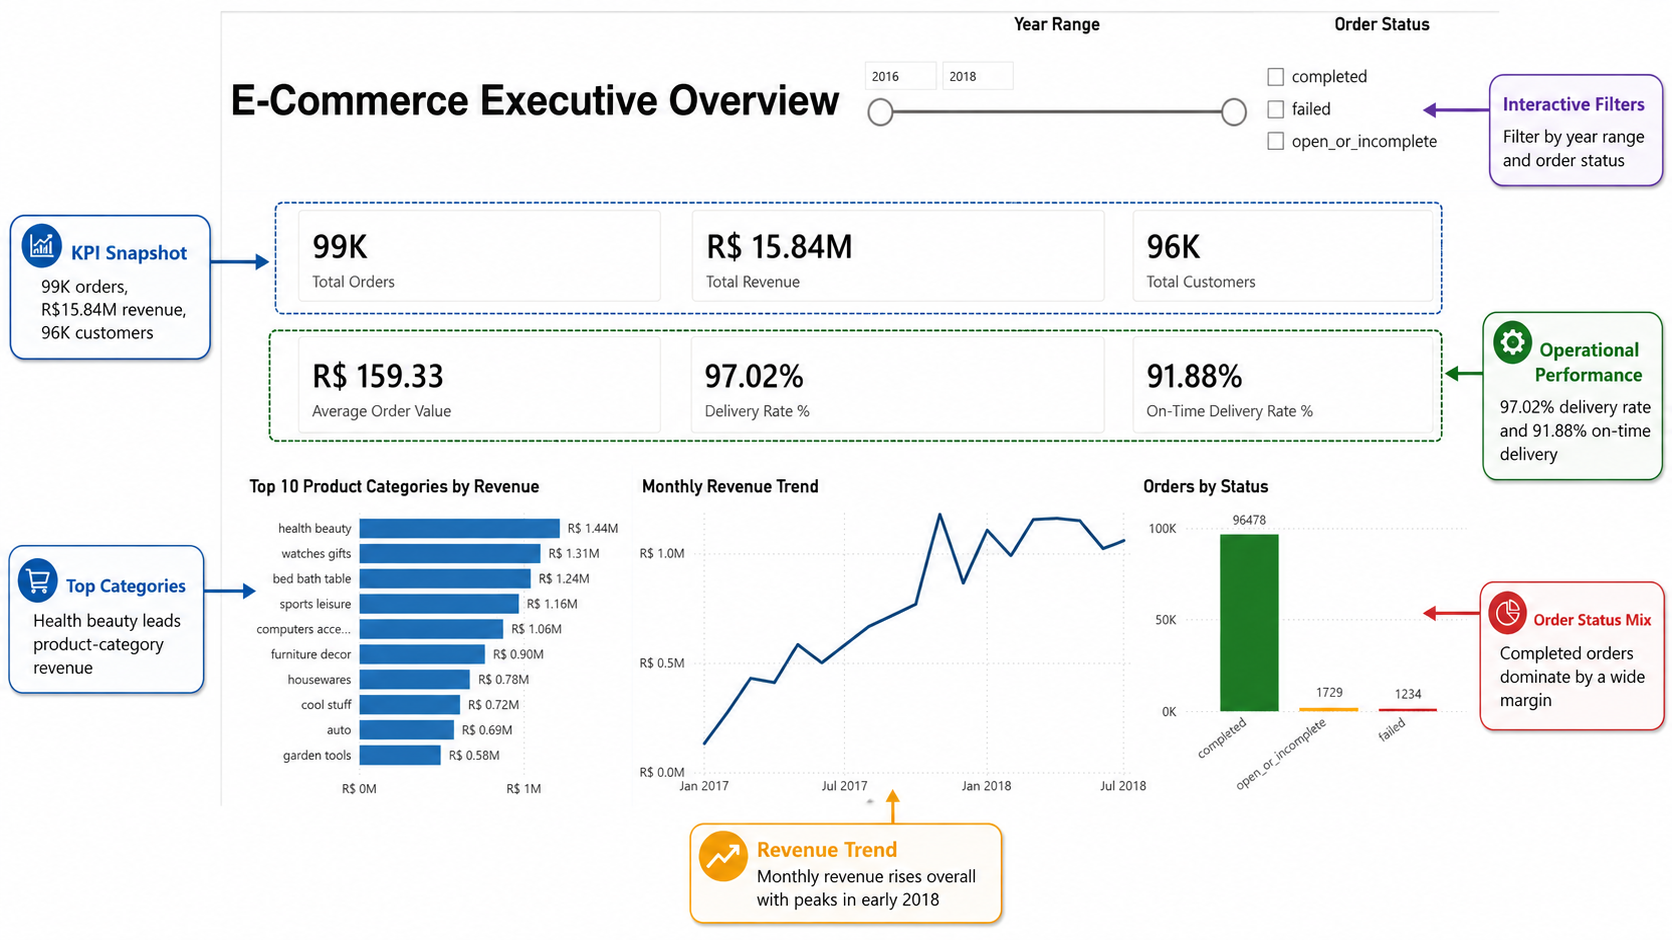

This screenshot's page, from the dashboard's own definition file:
{"tool":"powerbi","page":{"name":"Executive Overview","canvas":[1280,720],"ordinal":0},"visuals":[{"type":"textbox","box":[0,0,622.3,159.2],"z":0},{"type":"cardVisual","fields":{"Data":["KPI_Measures.Total Orders"]},"box":[0,159.2,418.5,117],"z":1000},{"type":"cardVisual","fields":{"Data":["KPI_Measures.Total Revenue"]},"box":[418.5,159.2,519.8,117],"z":2000},{"type":"cardVisual","fields":{"Data":["KPI_Measures.Total Customers"]},"box":[938.3,159.2,341.3,117],"z":3000},{"type":"cardVisual","fields":{"Data":["KPI_Measures.Average Order Value"]},"box":[0,276.2,418.5,127.8],"z":4000},{"type":"cardVisual","fields":{"Data":["KPI_Measures.Delivery Rate %"]},"box":[418.5,276.2,519.8,127.8],"z":5000},{"type":"cardVisual","fields":{"Data":["KPI_Measures.On-Time Delivery Rate %"]},"box":[938.3,276.2,341.3,127.8],"z":6000},{"type":"lineChart","title":"Monthly Revenue Trend","fields":{"Y":["KPI_Measures.Total Revenue"],"Category":["dim_date.year_month"]},"box":[418.5,404,519.8,316],"z":7000},{"type":"clusteredColumnChart","title":"Orders by Status","fields":{"Category":["dim_order_status.status_group"],"Y":["KPI_Measures.Total Orders"]},"box":[938.3,404,341.3,316],"z":8000},{"type":"slicer","title":"Year Range","fields":{"Values":["dim_date.year"]},"box":[622.4,0,420.1,159.5],"z":9000},{"type":"slicer","title":"Order Status","fields":{"Values":["dim_order_status.status_group"]},"box":[1042,0,237.6,159.2],"z":10000},{"type":"clusteredBarChart","title":"Top 10 Product Categories by Revenue","fields":{"Category":["dim_product.product_category"],"Y":["KPI_Measures.Total Revenue"]},"box":[0,404,418.5,316],"z":11000}]}

Visuals, with their boxes in screenshot pixels (x1, y1, x2, y2), scaled from the page's 1280x720 canvas onto the 1672x940 screenshot:
textbox: (0,0,813,208)
cardVisual - KPI_Measures.Total Orders: (0,208,547,361)
cardVisual - KPI_Measures.Total Revenue: (547,208,1226,361)
cardVisual - KPI_Measures.Total Customers: (1226,208,1671,361)
cardVisual - KPI_Measures.Average Order Value: (0,361,547,527)
cardVisual - KPI_Measures.Delivery Rate %: (547,361,1226,527)
cardVisual - KPI_Measures.On-Time Delivery Rate %: (1226,361,1671,527)
"Monthly Revenue Trend" lineChart: (547,527,1226,939)
"Orders by Status" clusteredColumnChart: (1226,527,1671,939)
"Year Range" slicer: (813,0,1362,208)
"Order Status" slicer: (1361,0,1671,208)
"Top 10 Product Categories by Revenue" clusteredBarChart: (0,527,547,939)
